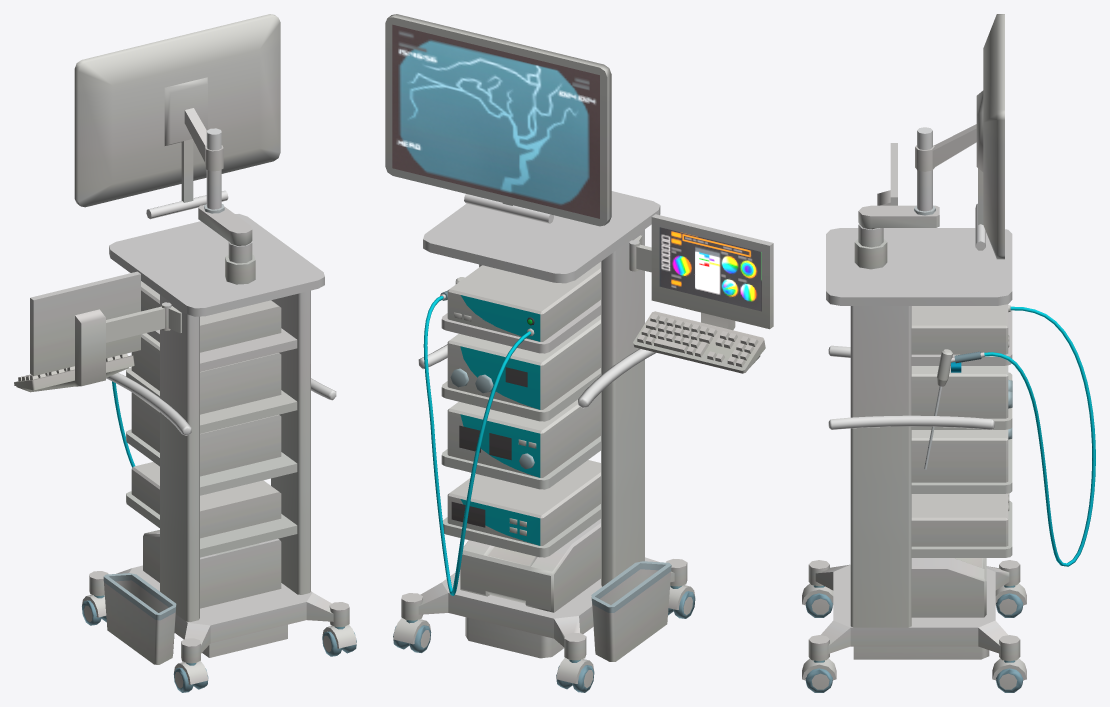
File: Pfb_JLAB_Laparoscopic_Stand.fbx
The picture shows the model from 3 angles, left to right: view 1: azimuth 30°, elevation 25°; view 2: azimuth 150°, elevation 25°; view 3: azimuth 270°, elevation 25°; orthographic projection. The views are drawn at different scales.
Parts seen in each view (by area): view 1: Color, Metal; view 2: Color, Monitors, Metal; view 3: Color, Metal.
Part boxes in pixels (<box>): Color: <box>14,14,356,692</box>; Metal: <box>106,128,336,435</box>; Color: <box>385,14,773,692</box>; Monitors: <box>392,24,761,311</box>; Metal: <box>418,194,656,408</box>; Color: <box>802,14,1095,692</box>; Metal: <box>828,127,994,469</box>.
Bounding box in the file's own units: 1.11 × 2.02 × 0.9148.
Materials: 3 (3 with a texture image).
